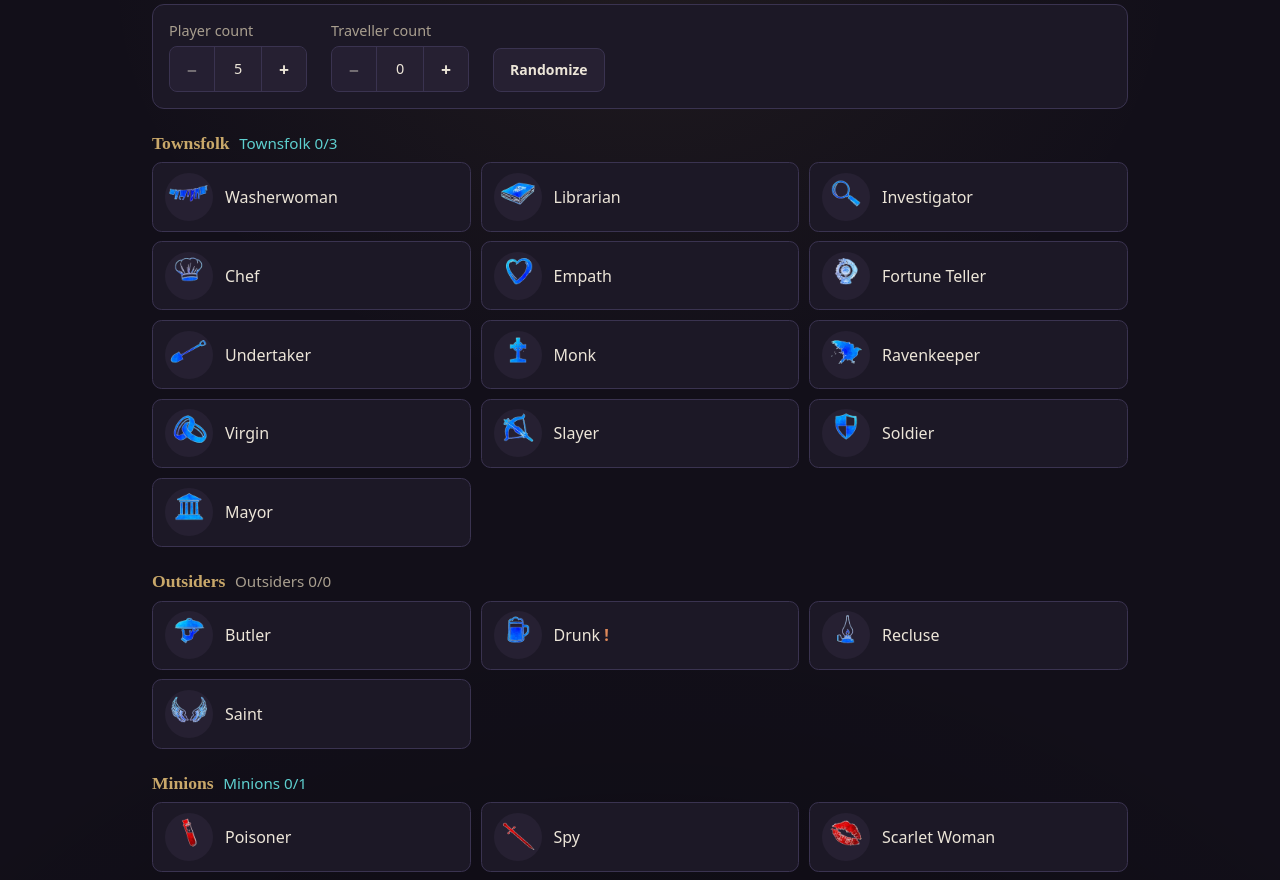
Scenario: player count and official target counts › recomputes targets when the storyteller changes the player count
This screenshot has width=1280, height=880.
Replace the text in the number field labelled "Player count" with "13" at (238, 69), box [214,47,262,91]
(page scrolled)
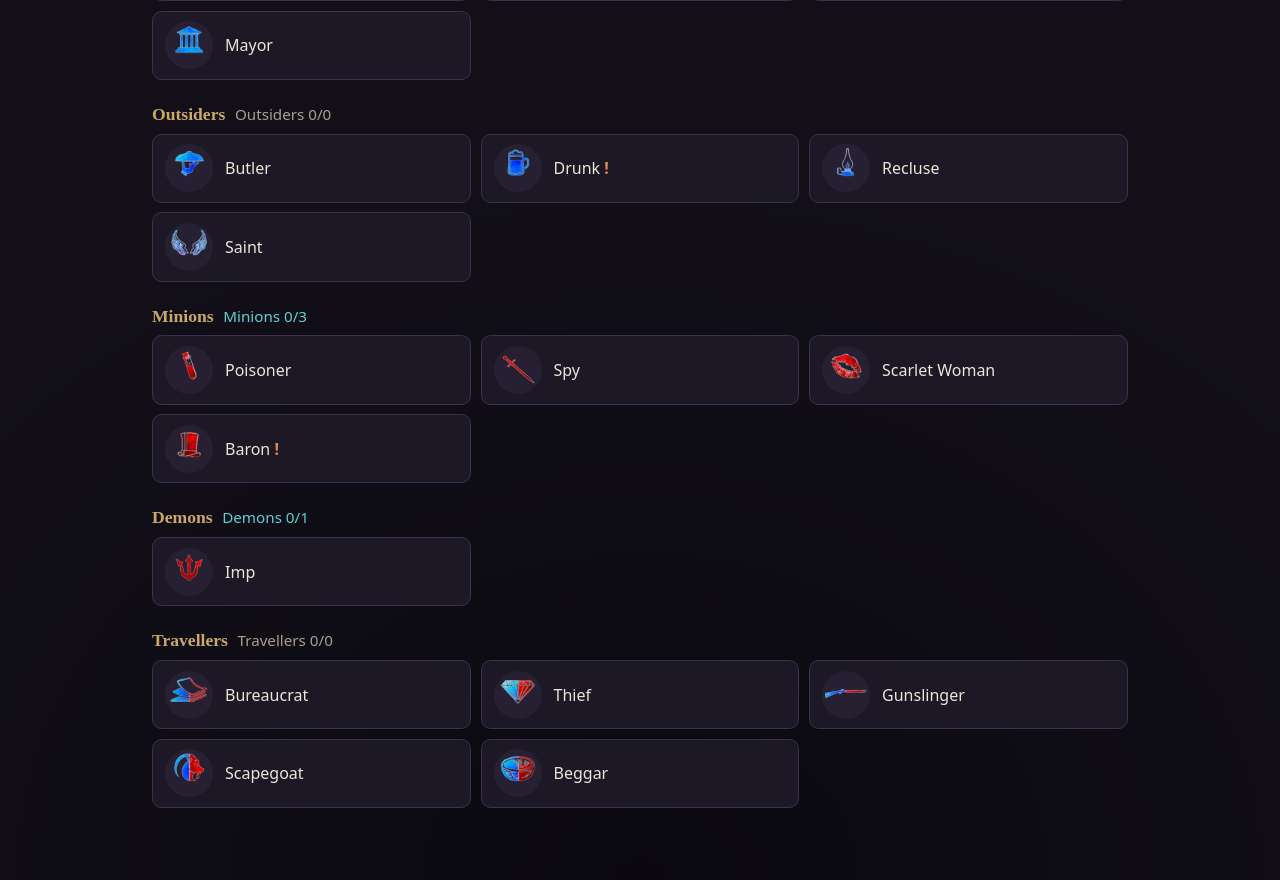
Expected: the text "Outsiders 0/0" is shown, [235,104,331,124]
Result: the text "Minions 0/3" is shown at [223,306,307,326]
